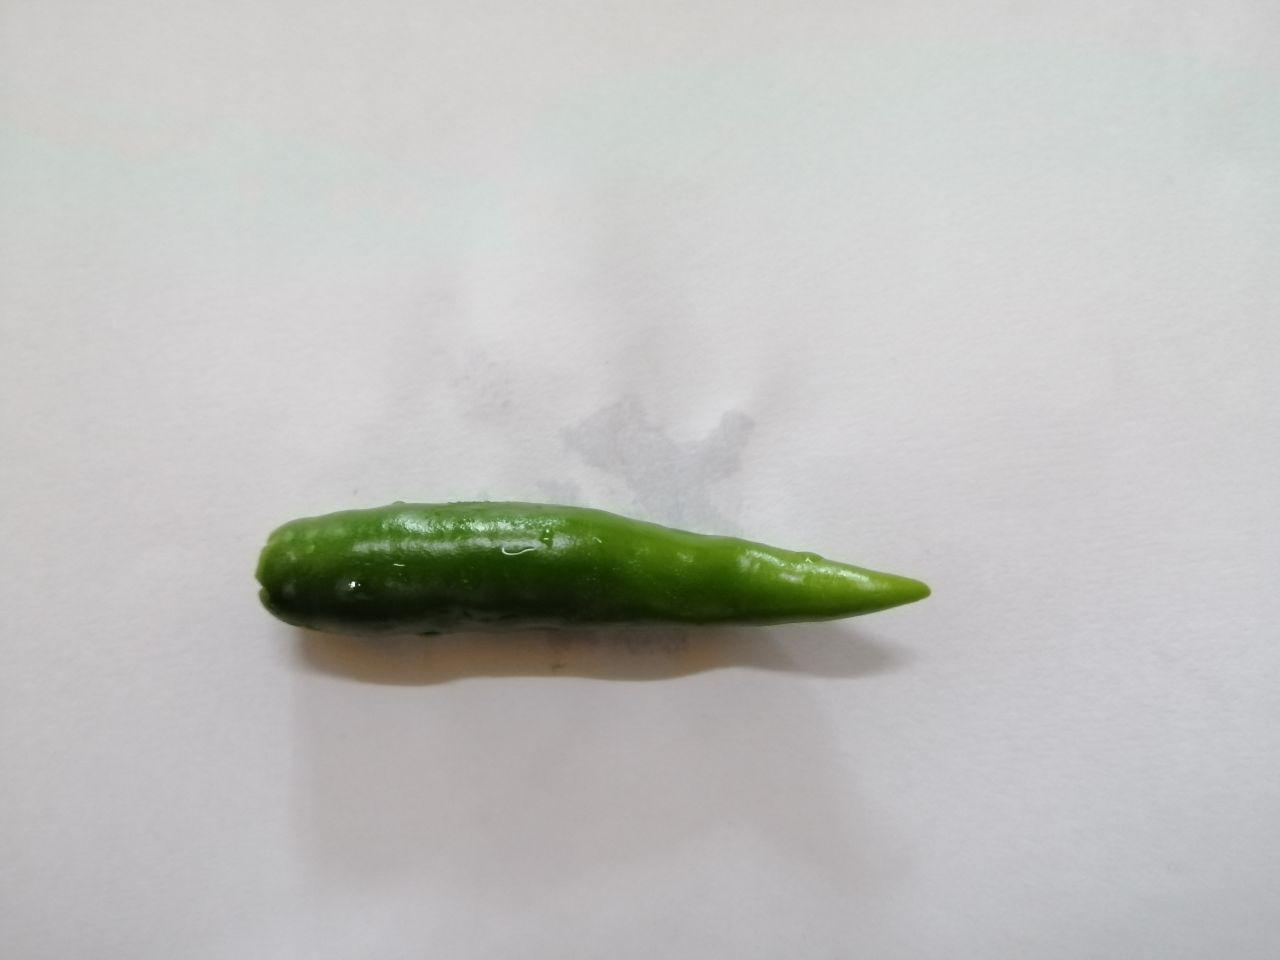lada hijau: (240, 467, 983, 717)
